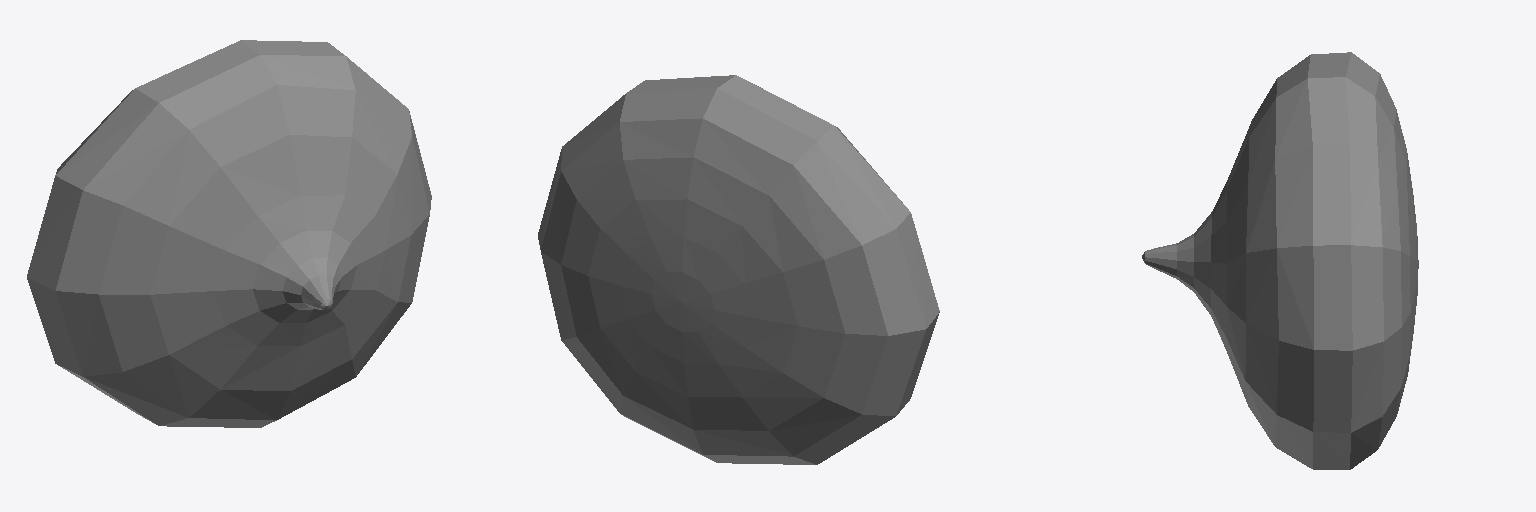
File: slime.obj
3 views of the same model, side by side, from view 1: azimuth 30°, elevation 25°; view 2: azimuth 150°, elevation 25°; view 3: azimuth 270°, elevation 25° (orthographic).
Parts seen in each view (by area): view 1: Slime; view 2: Slime; view 3: Slime.
Part boxes in pixels (x1,y1,x2,y2): Slime: (27, 40, 431, 427); Slime: (538, 75, 939, 464); Slime: (1142, 52, 1418, 469).
Size of the model in its own units: 5.16 by 4.77 by 3.19.